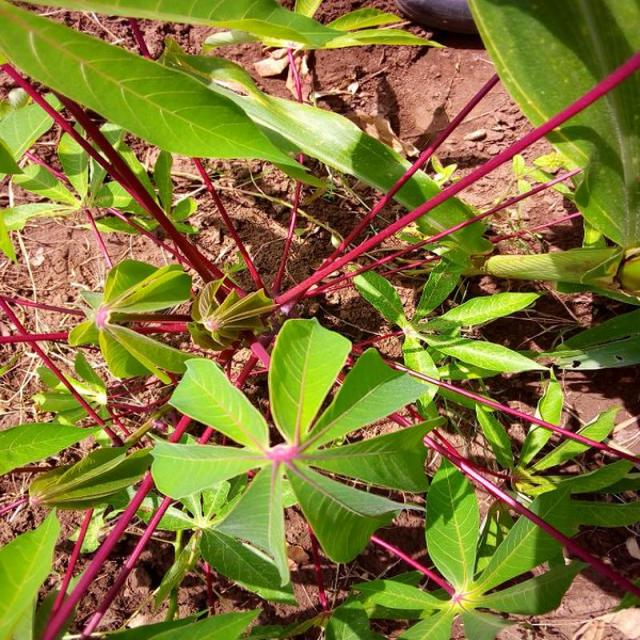cassava leaf: (2, 1, 491, 264), (150, 315, 445, 594), (468, 0, 640, 251)
